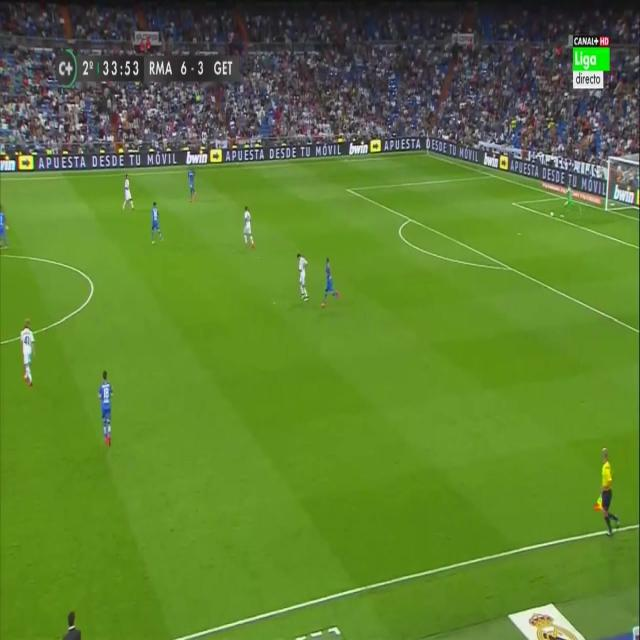Ball: (550, 208, 554, 220)
Goalkeeper: (561, 183, 575, 217)
Player: (18, 318, 37, 395), (97, 369, 115, 450), (319, 255, 342, 312), (147, 200, 165, 252), (296, 250, 311, 304), (242, 204, 257, 254), (119, 173, 136, 216), (0, 201, 13, 252), (187, 165, 199, 208)
Referee: (593, 445, 621, 538)
